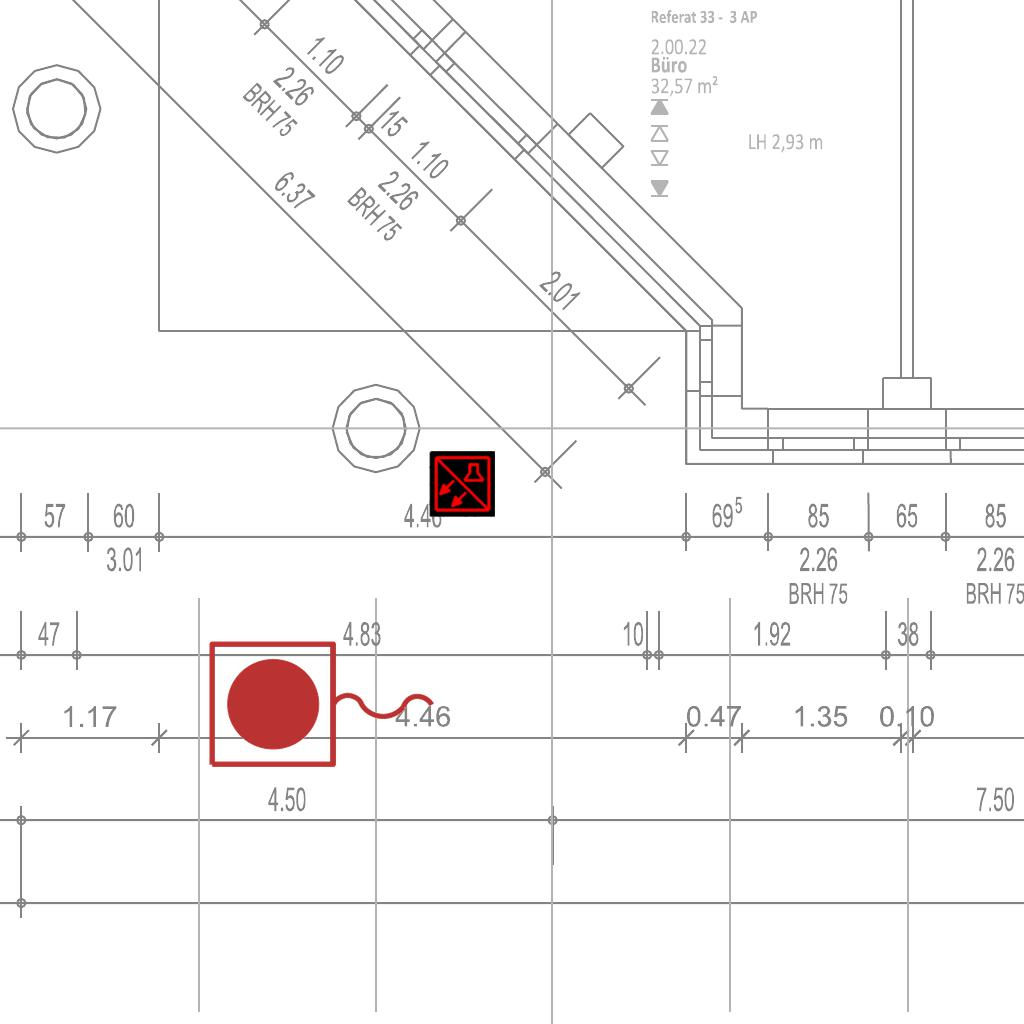OKW_Multisensormelder_(Kombination_optischer_Rauch-Kahlenmonoxid_Waerme-Melder): (429, 451, 495, 517)
Zugtaster: (201, 634, 445, 778)
